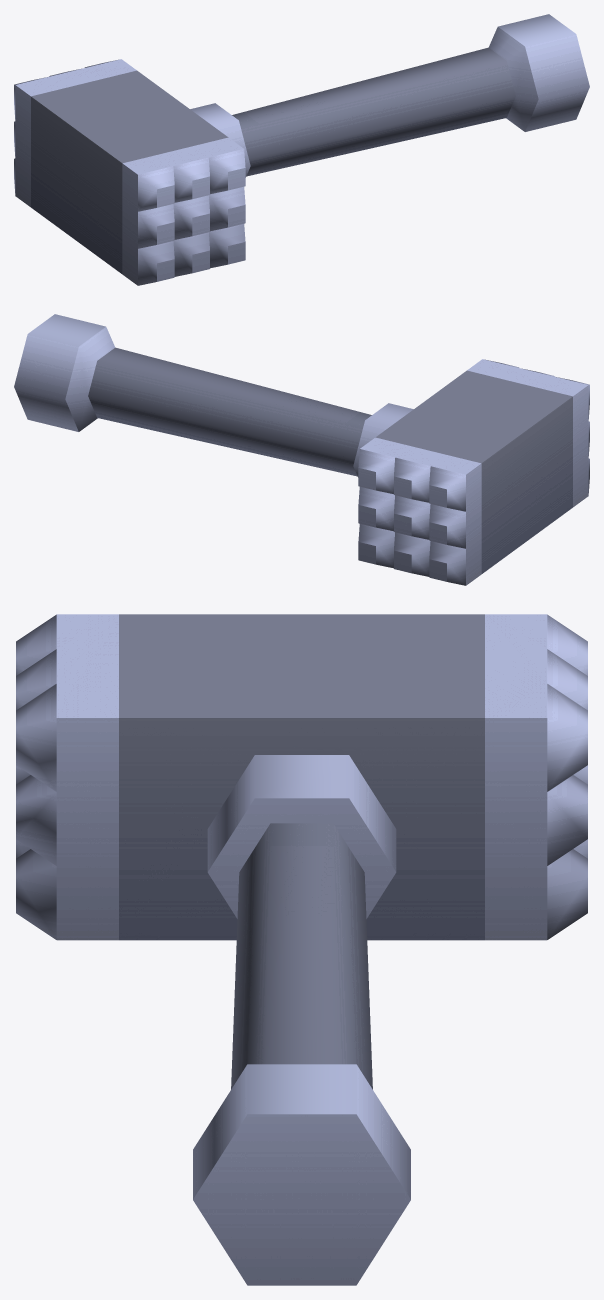
The model's file is meat-tenderizer.glb.
3 renders of one model, top to bottom at view 1: azimuth 30°, elevation 25°; view 2: azimuth 150°, elevation 25°; view 3: azimuth 270°, elevation 25°, orthographic. The views are drawn at different scales.
Parts seen in each view (by area): view 1: meat-tenderizer; view 2: meat-tenderizer; view 3: meat-tenderizer.
Part boxes in pixels (bbox=[...]): meat-tenderizer: bbox=[14, 14, 589, 285]; meat-tenderizer: bbox=[14, 314, 589, 585]; meat-tenderizer: bbox=[16, 614, 587, 1285].
Size of the model in its own units: 0.5408 by 0.1182 by 0.2757.
1 material, 1 textured.
